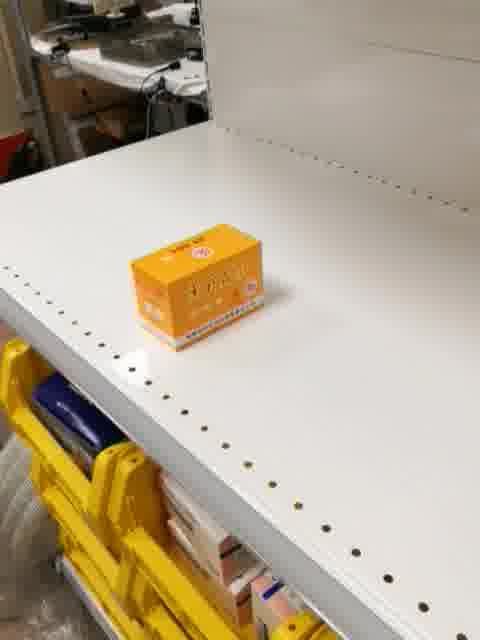jasminetea: (128, 222, 266, 353)
